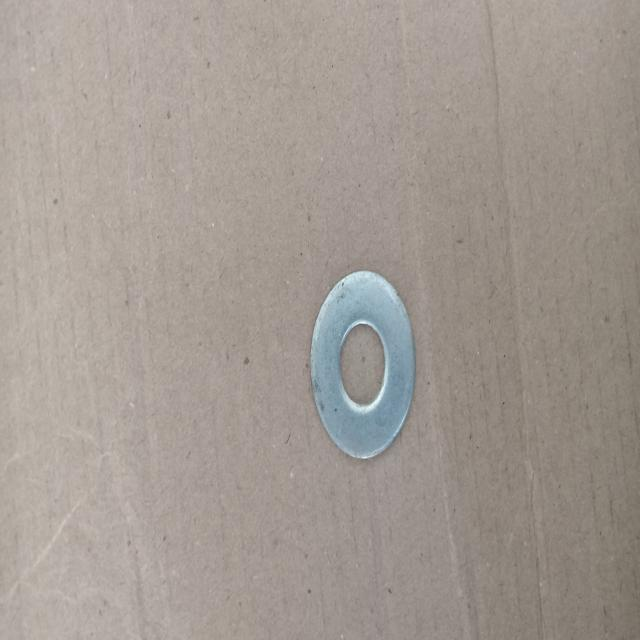washer: (310, 271, 416, 461)
